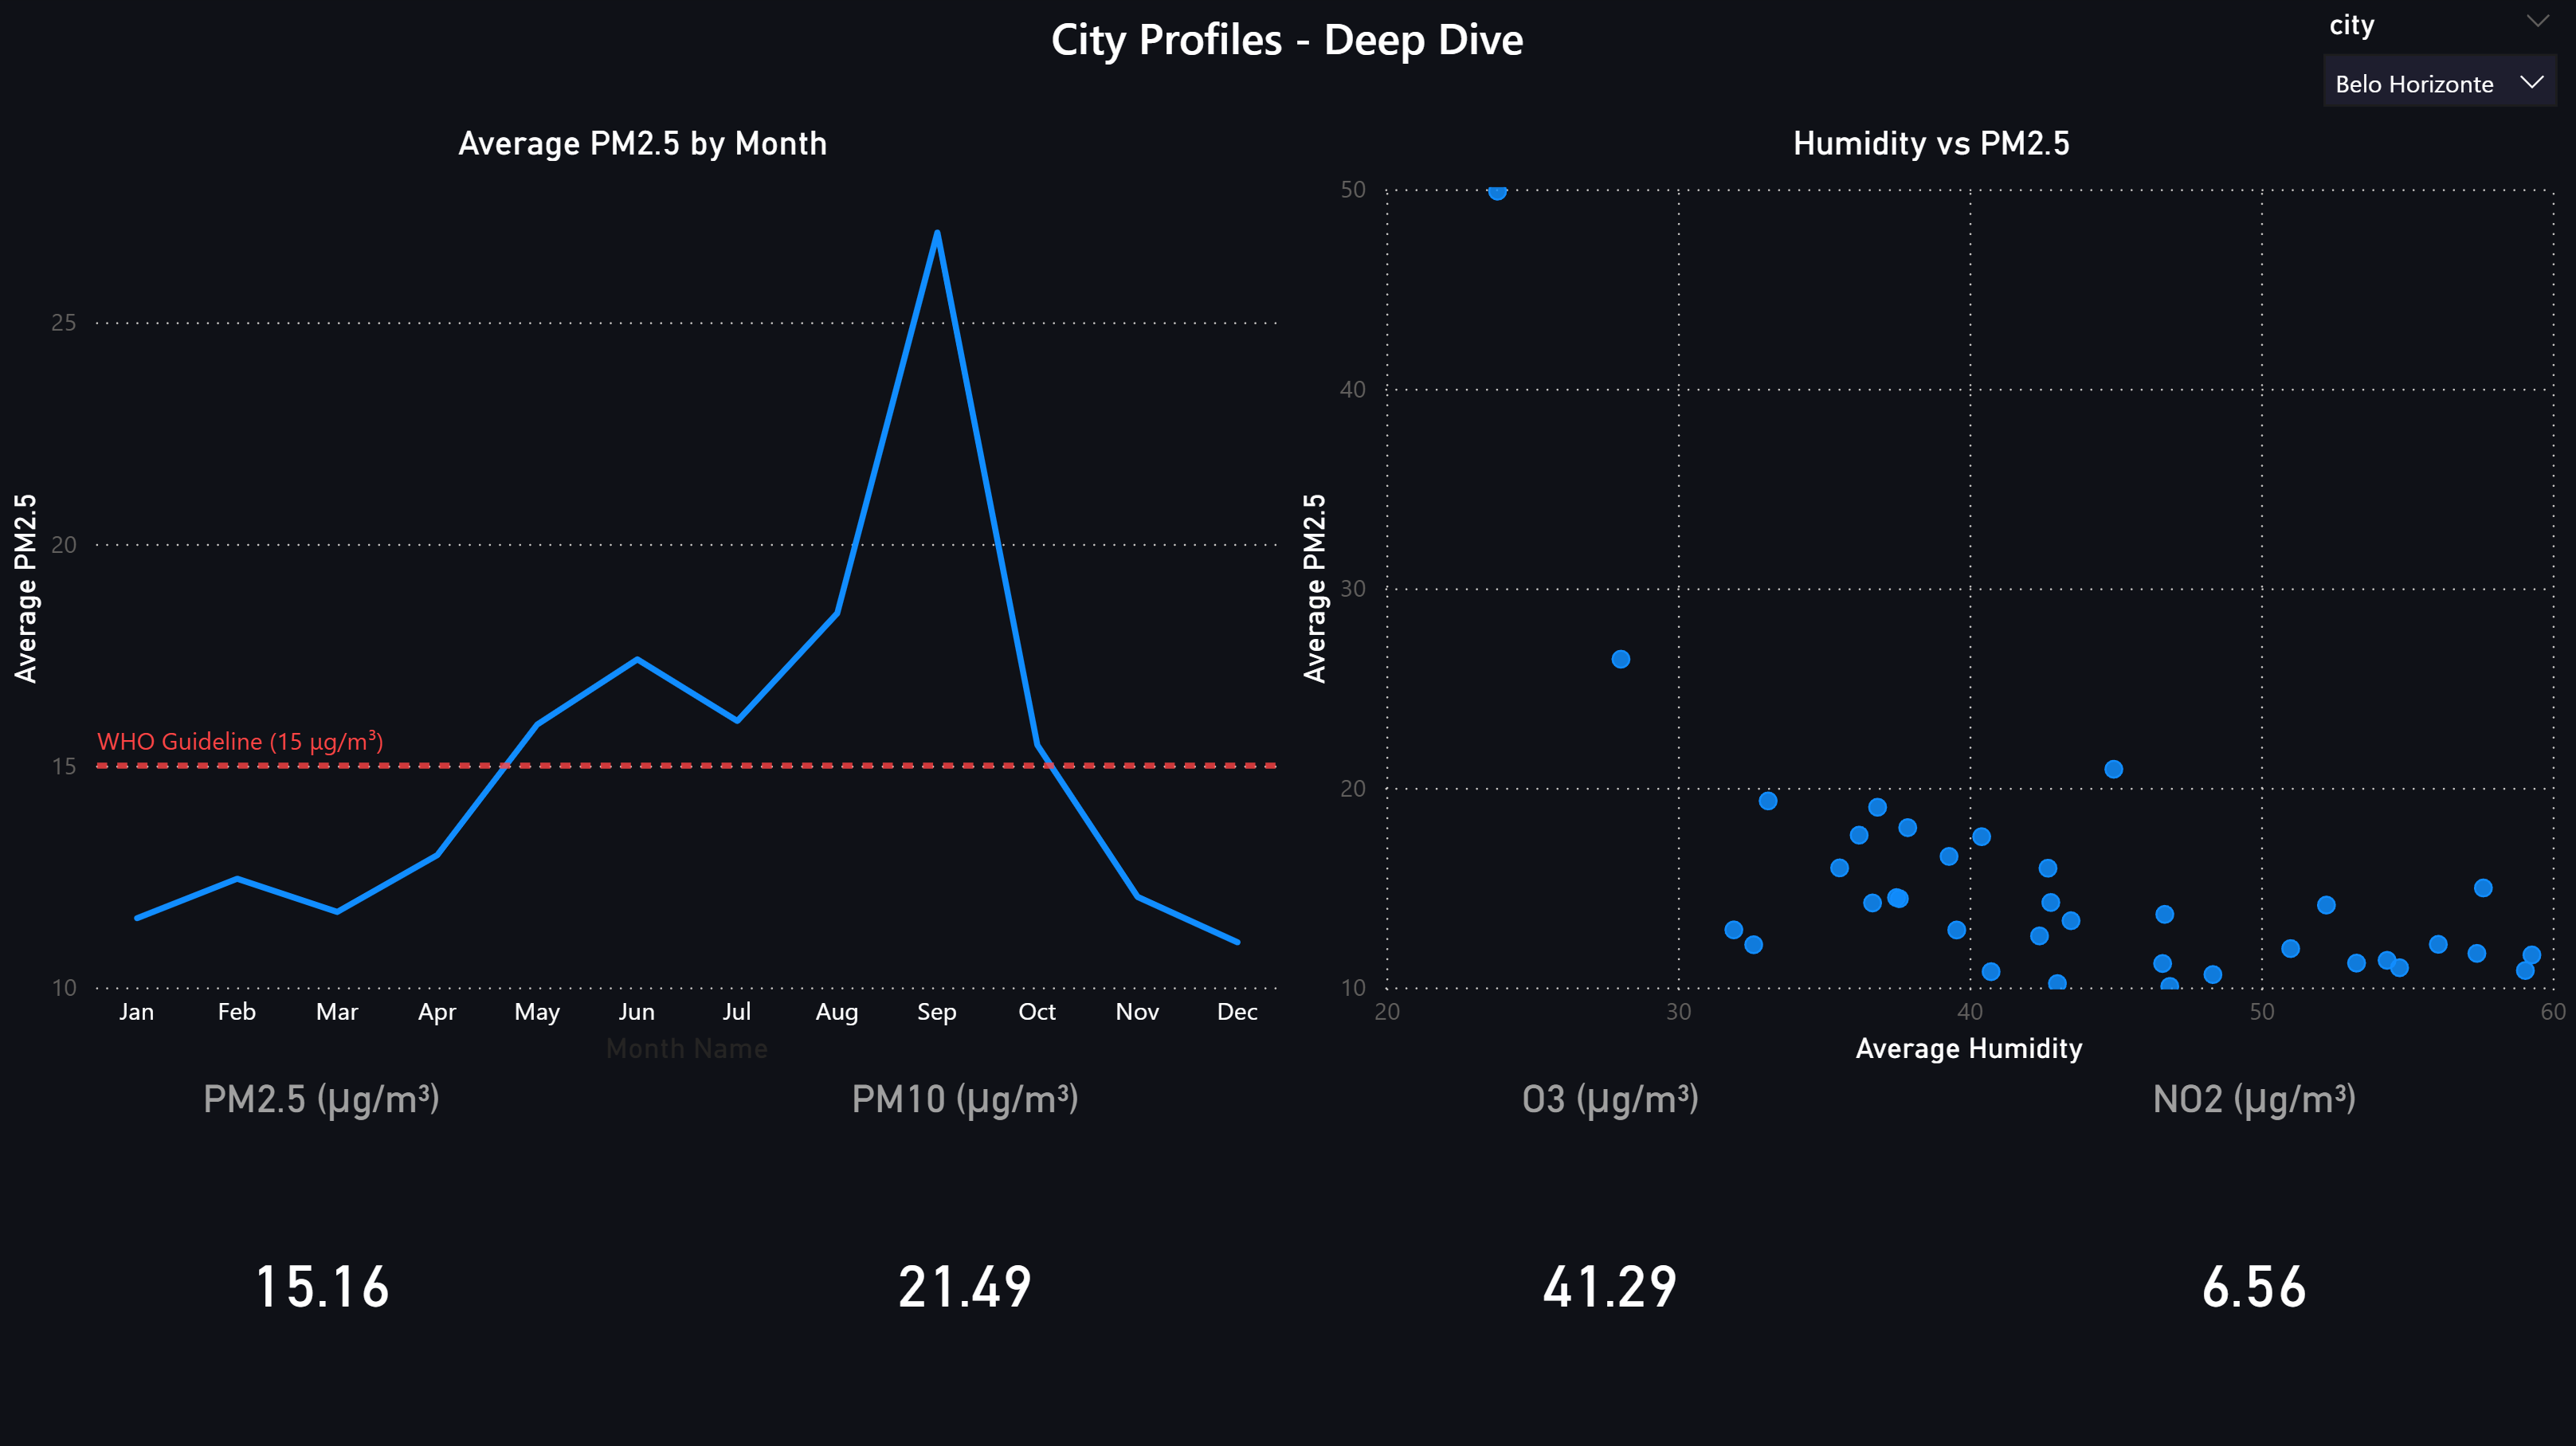

What the dashboard file says about the page in this screenshot:
{"tool":"powerbi","page":{"name":"City Profiles","canvas":[1280,720],"ordinal":3},"visuals":[{"type":"textbox","box":[0,0,1280,100.2],"z":0},{"type":"slicer","fields":{"Values":["Table.city"]},"box":[1144.4,0,135.6,62.2],"z":1000},{"type":"lineChart","title":"Average PM2.5 by Month","fields":{"Category":["integrated.Month Name"],"Y":["integrated.Avg PM25"]},"box":[0,62.2,640,472.3],"z":2000},{"type":"scatterChart","title":"Humidity vs PM2.5","fields":{"X":["Avg(integrated.humidity_min)"],"Y":["integrated.Avg PM25"],"Category":["integrated.month_start"]},"box":[640,62.2,640,472.3],"z":3000},{"type":"card","title":"NO2 (μg/m³)","fields":{"Values":["integrated.Avg NO2"]},"box":[959.7,534.5,320.3,185],"z":4000},{"type":"card","title":"O3 (μg/m³)","fields":{"Values":["integrated.Avg O3"]},"box":[640,534.5,320.3,185.4],"z":5000},{"type":"card","title":"PM10 (μg/m³)","fields":{"Values":["integrated.Avg PM10"]},"box":[319.7,534.5,320.3,185.4],"z":6000},{"type":"card","title":"PM2.5 (μg/m³)","fields":{"Values":["integrated.Avg PM25"]},"box":[0,534.5,320.3,185.4],"z":7000}]}

Visuals, with their boxes in screenshot pixels (x1, y1, x2, y2), scaled from the page's 1280x720 canvas onto the 2576x1446 screenshot:
textbox: [0, 0, 2575, 202]
slicer - Table.city: [2304, 0, 2575, 125]
"Average PM2.5 by Month" lineChart: [0, 125, 1288, 1073]
"Humidity vs PM2.5" scatterChart: [1288, 125, 2575, 1073]
"NO2 (μg/m³)" card: [1931, 1073, 2575, 1445]
"O3 (μg/m³)" card: [1288, 1073, 1933, 1445]
"PM10 (μg/m³)" card: [643, 1073, 1288, 1445]
"PM2.5 (μg/m³)" card: [0, 1073, 645, 1445]
